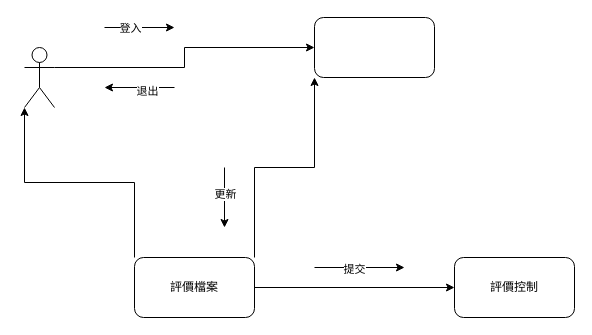
This 592x335 diagram has some shape labels left out. Here are the shapes that lost their labels. From the top down, the box of each, then its label:
(314, 16, 434, 78): 管理界面
(24, 46, 54, 108): Actor
